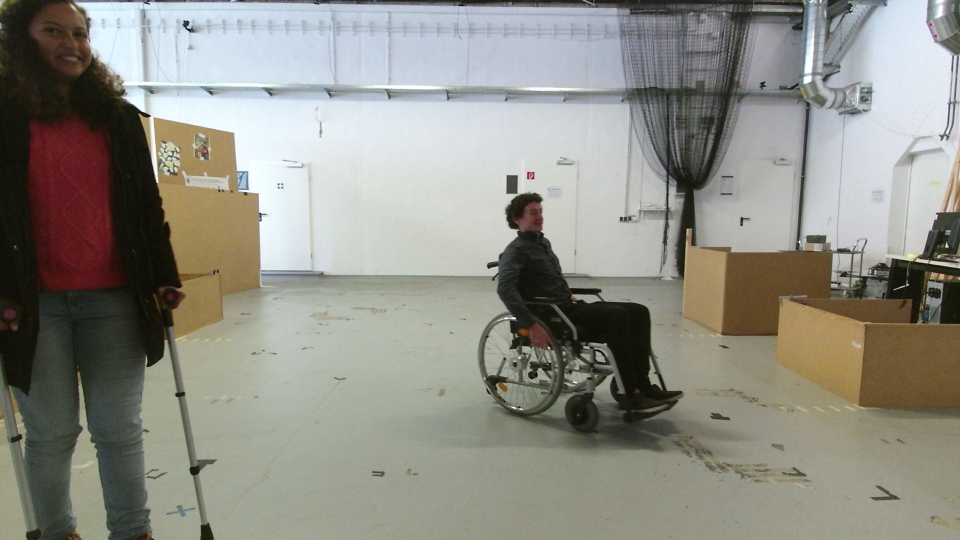crutches: (1, 1, 223, 540)
wheelchair: (470, 191, 676, 434)
